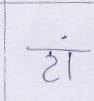anusvara: (62, 36, 66, 40)
